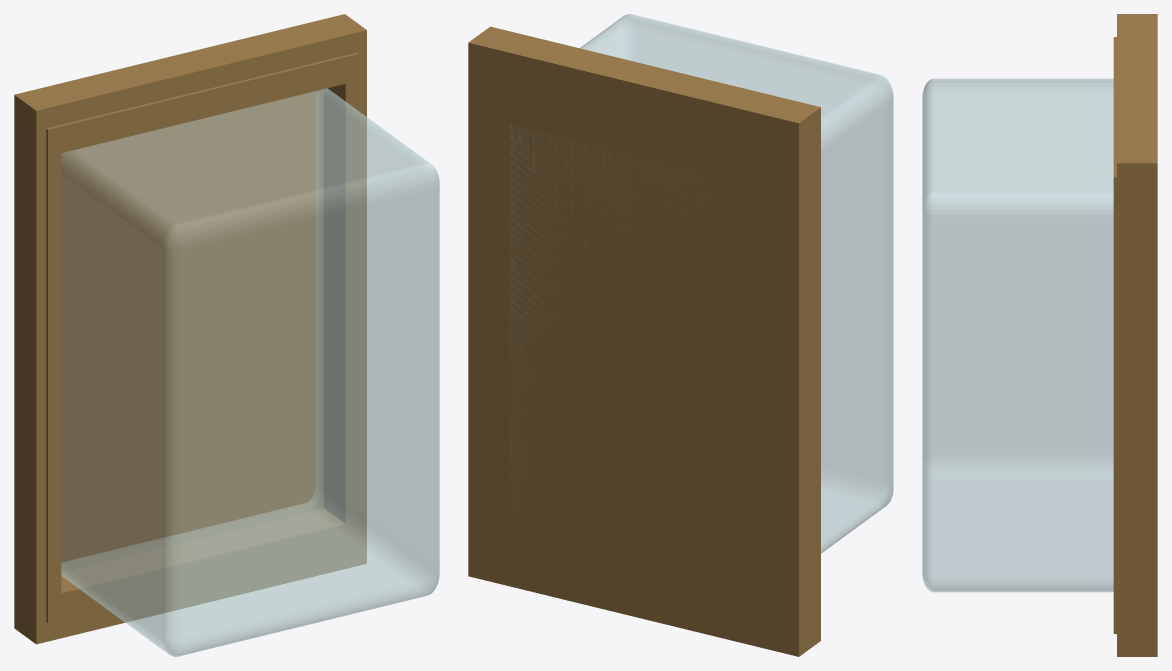
The model's file is watercase_tray.glb.
The picture shows the model from 3 angles, left to right: view 1: azimuth 30°, elevation 25°; view 2: azimuth 150°, elevation 25°; view 3: azimuth 270°, elevation 25°; orthographic projection. The views are drawn at different scales.
Parts seen in each view (by area): view 1: obj_73, obj_72; view 2: obj_73, obj_72; view 3: obj_72, obj_73.
Boxes of the visible parts, <box> form: obj_73: <box>14,14,366,644</box>; obj_72: <box>61,88,439,656</box>; obj_73: <box>468,26,820,656</box>; obj_72: <box>510,14,893,553</box>; obj_72: <box>922,78,1113,592</box>; obj_73: <box>1113,14,1157,656</box>.
Bounding box in the file's own units: 24 × 37 × 16.
